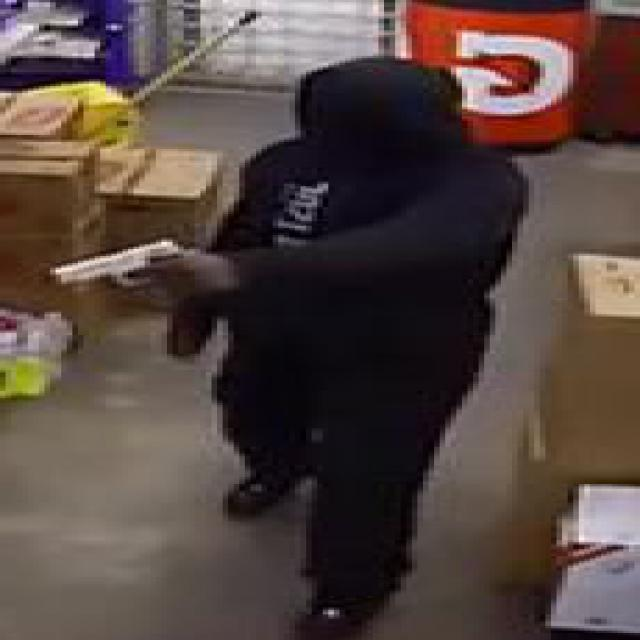Gun: (56, 230, 222, 296)
